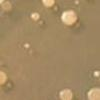white: (60, 9, 79, 29), (85, 84, 100, 100), (58, 87, 73, 100), (41, 0, 55, 9), (0, 68, 7, 86), (30, 12, 41, 22), (92, 69, 100, 79), (23, 42, 29, 49)
